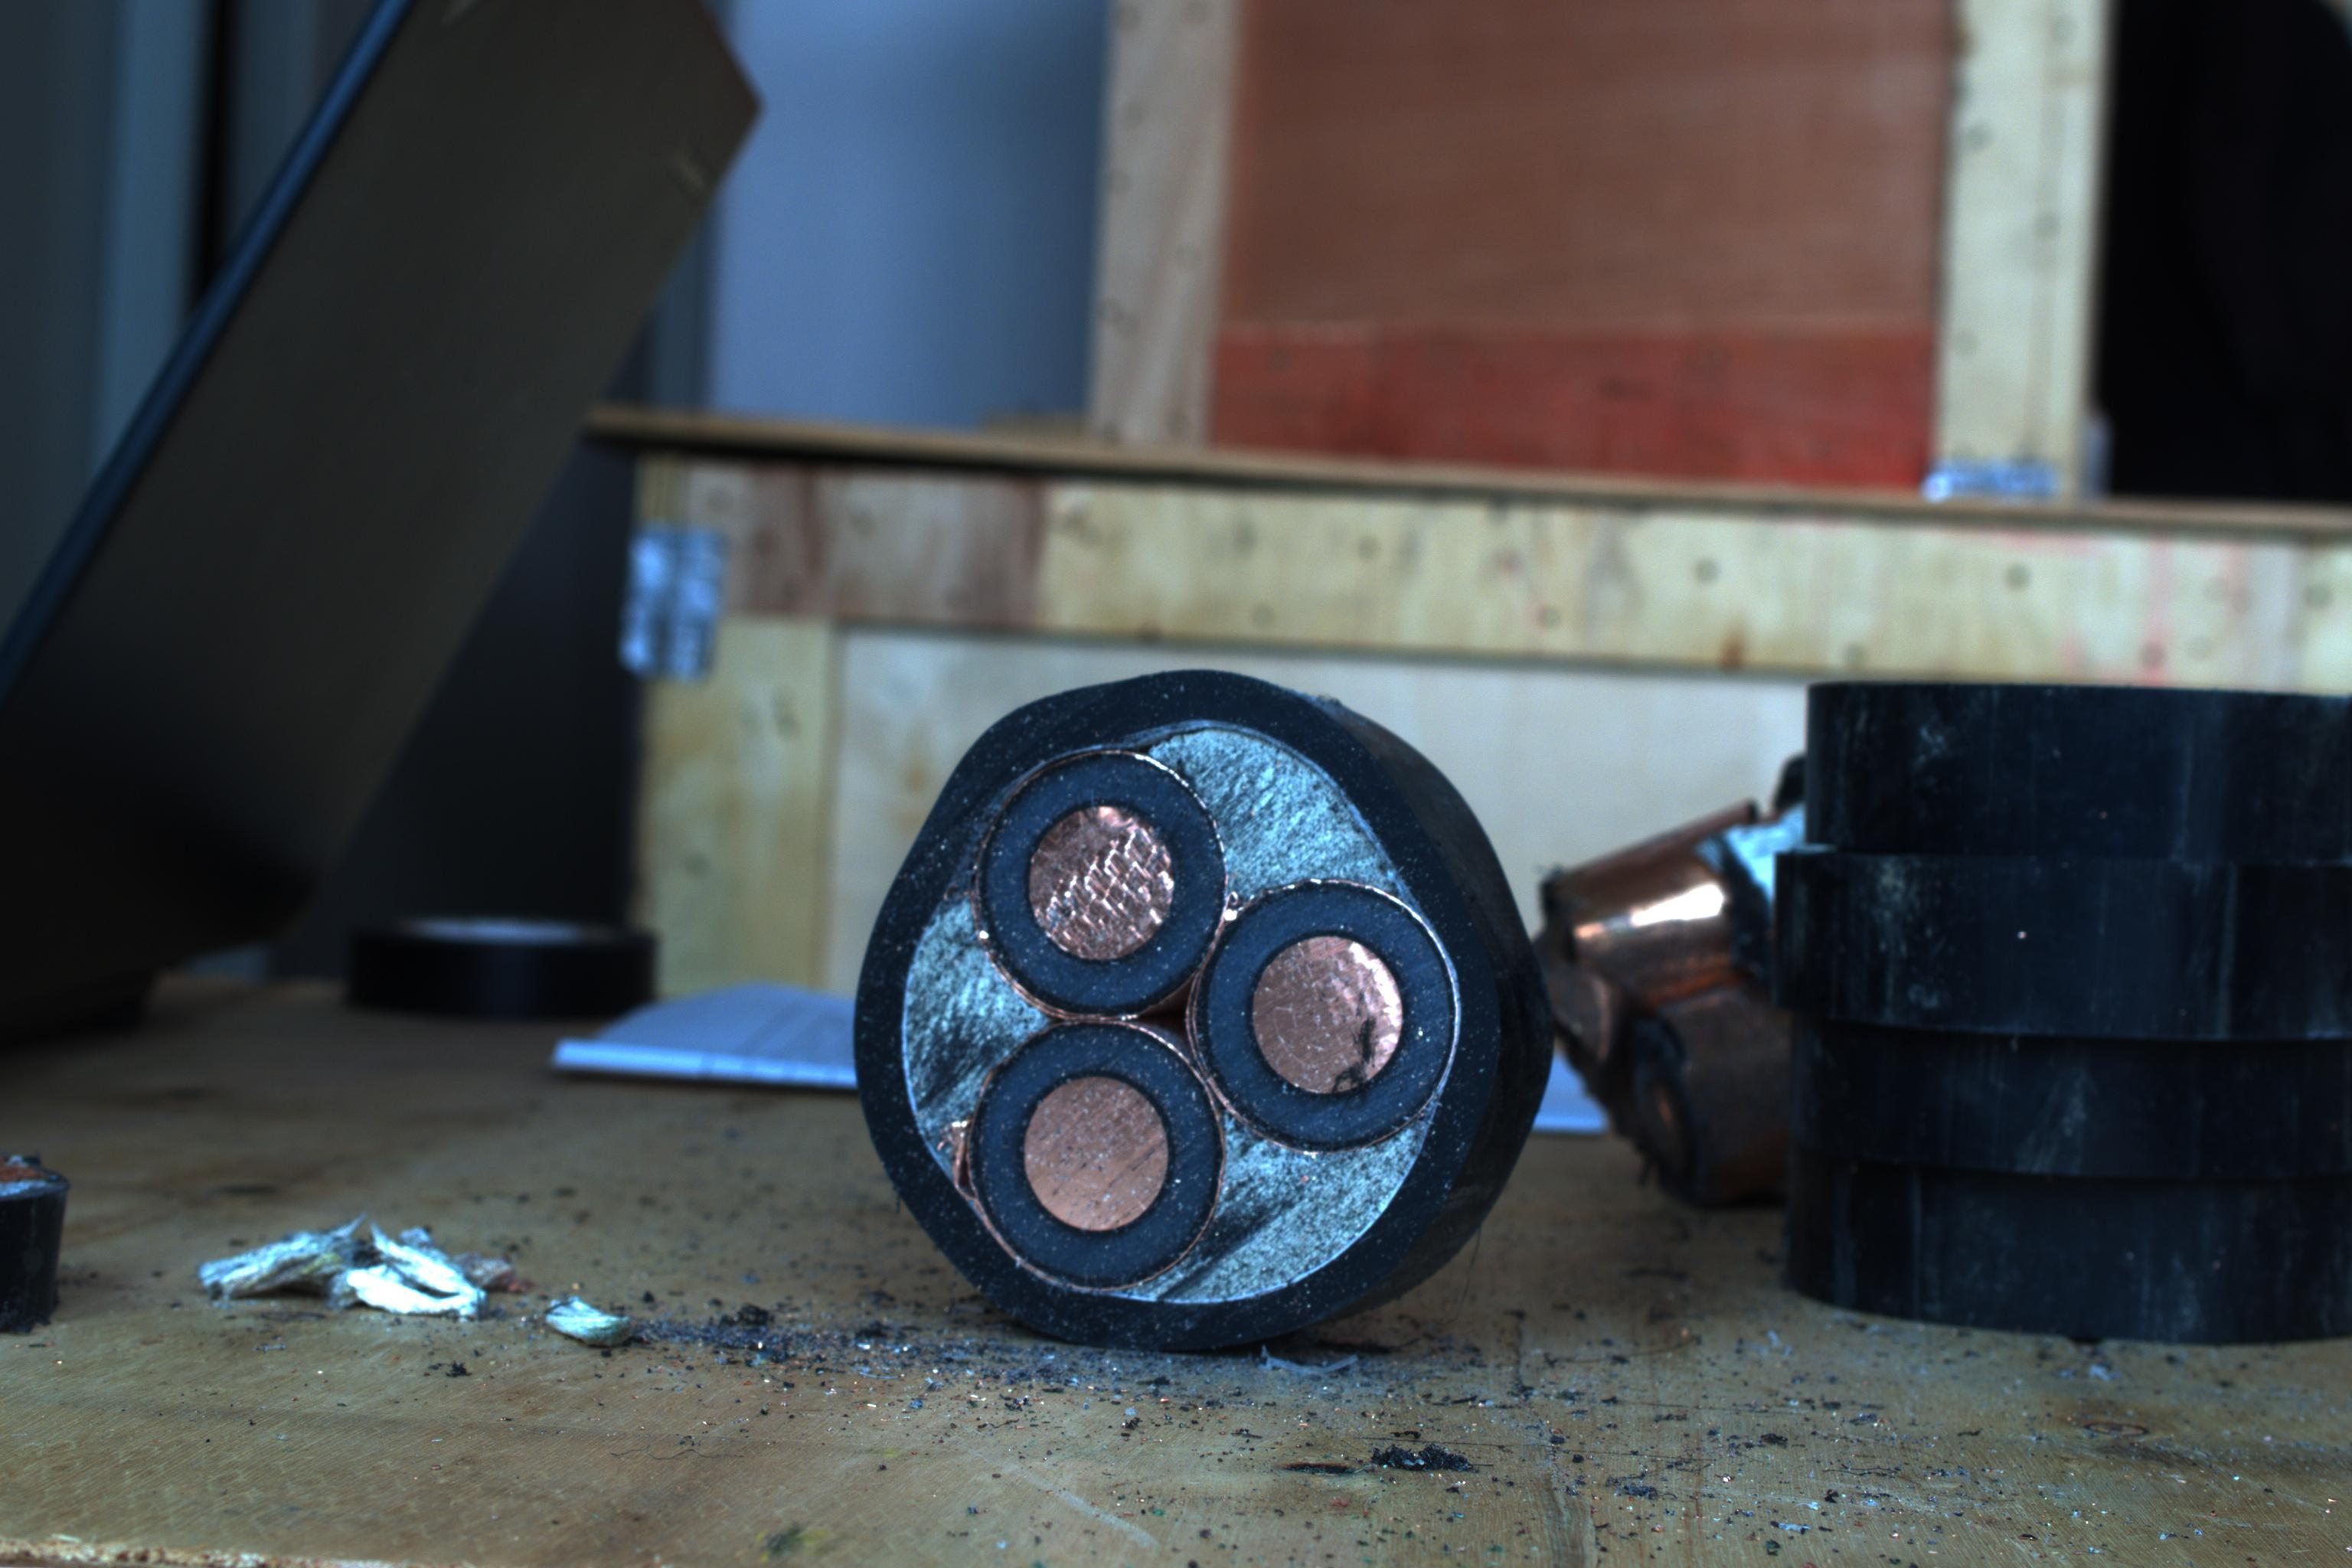ZA_YJV_8.7_10kV_3x240: (882, 679, 1482, 1342)
